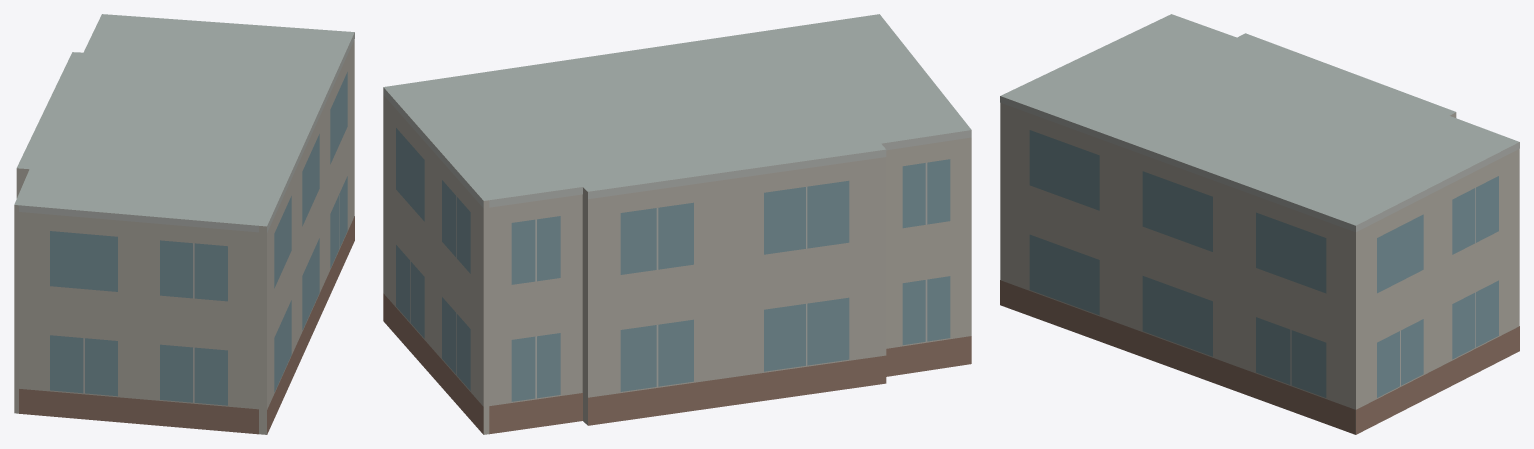
File: survey-upis-32970309.glb
The picture shows the model from 3 angles, left to right: view 1: azimuth 30°, elevation 25°; view 2: azimuth 150°, elevation 25°; view 3: azimuth 270°, elevation 25°; orthographic projection. The views are drawn at different scales.
Visible parts, largest first — view 1: survey-upis-32970309.tmp; view 2: survey-upis-32970309.tmp; view 3: survey-upis-32970309.tmp.
Boxes of the visible parts, box(x1,y1,x2,y2) form: survey-upis-32970309.tmp: box(14, 14, 354, 434); survey-upis-32970309.tmp: box(383, 14, 971, 434); survey-upis-32970309.tmp: box(1000, 14, 1519, 434).
Bounding box in the file's own units: 16.62 × 7.65 × 17.23.
